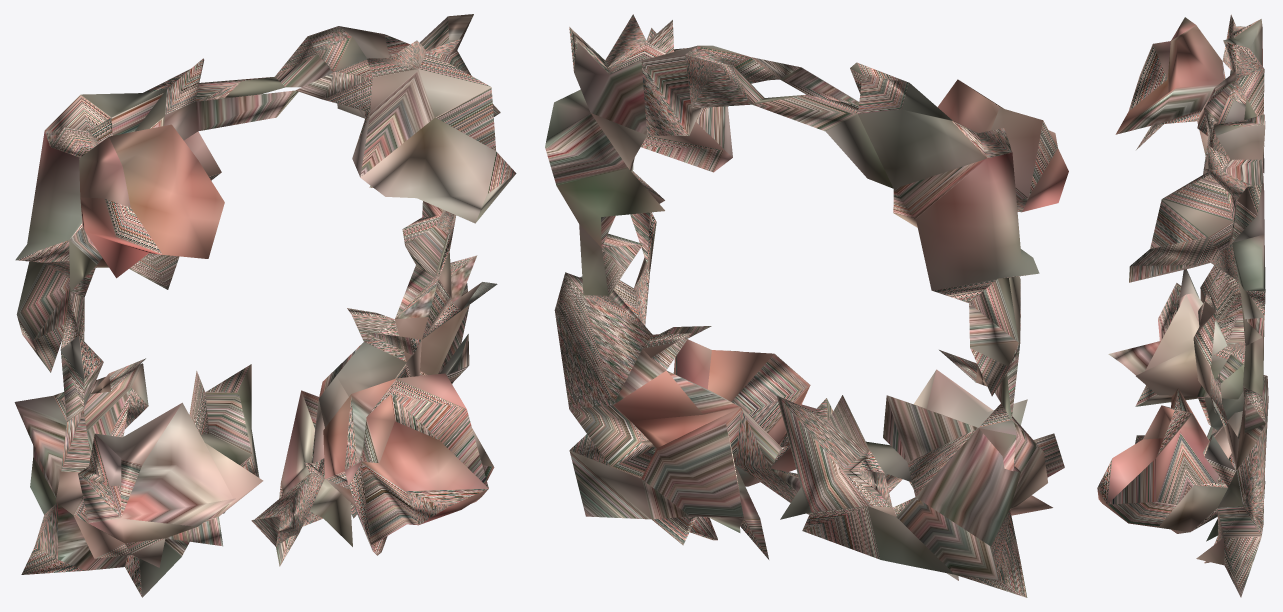
3 views of the same model, side by side, from view 1: azimuth 30°, elevation 25°; view 2: azimuth 150°, elevation 25°; view 3: azimuth 270°, elevation 25° (orthographic). The views are drawn at different scales.
Visible parts, largest first — view 1: Rose-Frame-9-22; view 2: Rose-Frame-9-22; view 3: Rose-Frame-9-22.
Part boxes in pixels (x1=…): Rose-Frame-9-22: x1=14, y1=14, x2=516, y2=597; Rose-Frame-9-22: x1=545, y1=14, x2=1068, y2=597; Rose-Frame-9-22: x1=1097, y1=14, x2=1268, y2=597.
Size of the model in its own units: 0.2379 by 0.2499 by 0.086.
1 material, 1 textured.
